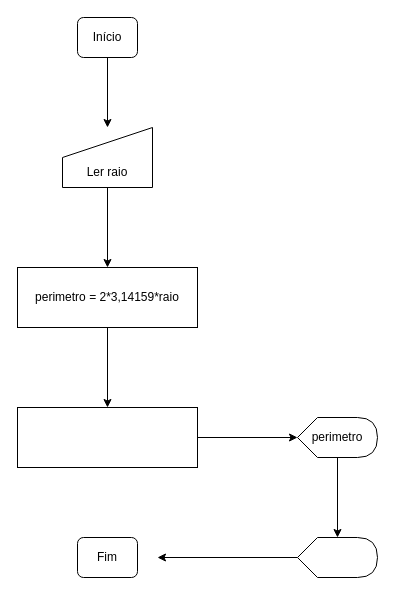
This 395x595 diagram has some shape labels left out. The shapes that lost their labels are listed below. From the top down, each one's box as (x1, y1, x2, y2) in pixels, then its label:
(16, 406, 198, 468): area=3,14159*raio*raio
(296, 536, 378, 578): area
